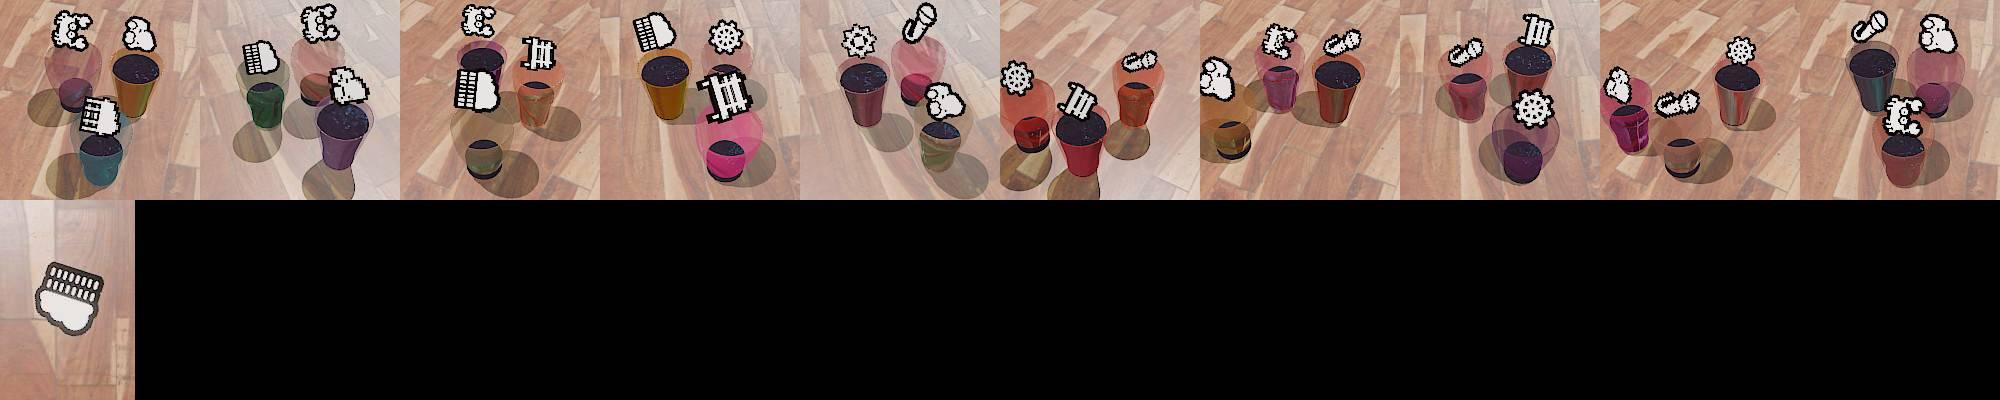icon: (33, 261, 106, 338), (698, 69, 754, 125), (455, 66, 500, 113), (1880, 94, 1925, 136), (633, 11, 677, 54), (51, 9, 93, 52), (79, 94, 121, 138), (1511, 88, 1555, 129), (1057, 80, 1098, 122), (925, 80, 966, 121), (328, 65, 369, 106), (300, 3, 339, 43), (901, 1, 937, 45), (1918, 14, 1958, 54), (242, 38, 281, 78), (707, 18, 745, 56), (519, 34, 557, 73), (1203, 56, 1235, 98), (1520, 13, 1556, 50), (1000, 60, 1036, 96), (841, 23, 876, 59), (122, 15, 157, 52), (1261, 23, 1296, 60), (1323, 27, 1362, 57), (1853, 10, 1889, 43), (1448, 36, 1485, 68), (462, 4, 495, 38), (1603, 65, 1631, 103), (1654, 90, 1691, 118), (1724, 36, 1758, 66), (1121, 48, 1158, 73)
